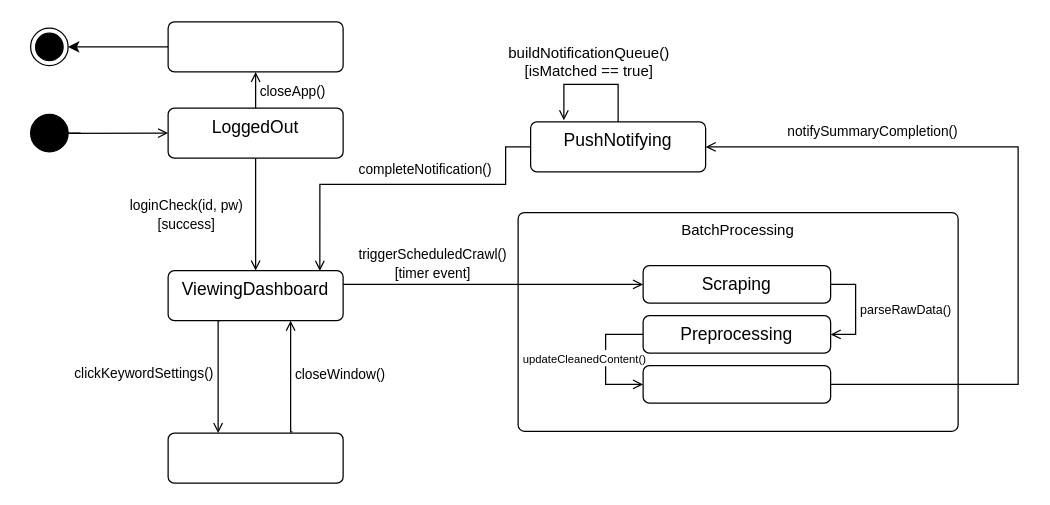
Image size: 1050x505. Some labels were removed from this diagram. The centre of each missing label's shape, as x and y in pixels:
"ManagingKeywords" goes at (x=255, y=457).
"SummaryGenerating" goes at (x=736, y=383).
"SystemExited" goes at (x=255, y=46).
